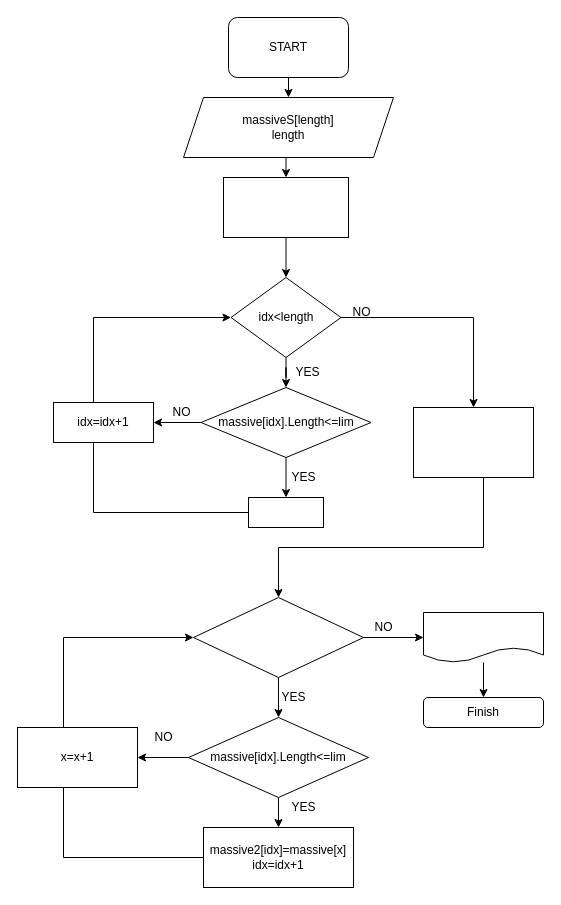
The diagram is 561 pixels wide and 905 high, and some of its shapes have lost their labels. Each missing label, with the centre of its shape:
"idx<n" belongs at (278,637).
"lim = 3 n = 0 idx = 0" belongs at (285,207).
"massive2" belongs at (483,637).
"n massive2[n] idx=0 x=0" belongs at (473,442).
"n=n+1" belongs at (286,512).
